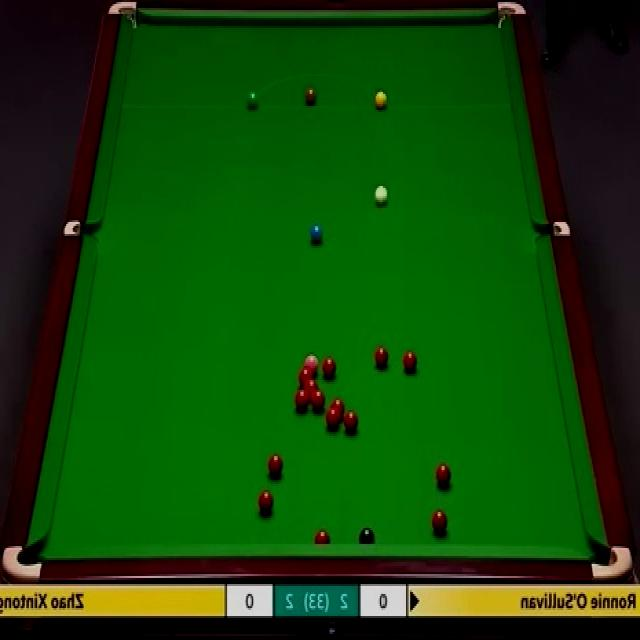black-ball: (358, 528, 374, 544)
blue-ball: (310, 225, 324, 242)
brown-ball: (305, 88, 316, 106)
green-ball: (245, 88, 260, 110)
pink-ball: (304, 354, 319, 374)
red-ball: (267, 452, 284, 477), (431, 511, 448, 534), (298, 366, 315, 389), (258, 490, 273, 514), (321, 358, 339, 378), (344, 409, 359, 433), (434, 464, 452, 484), (374, 343, 389, 366), (402, 352, 418, 372), (294, 388, 309, 408), (331, 398, 344, 418), (326, 408, 339, 428), (313, 529, 331, 543), (312, 389, 324, 408)
white-ball: (375, 184, 389, 208)
yellow-ball: (375, 90, 387, 110)
